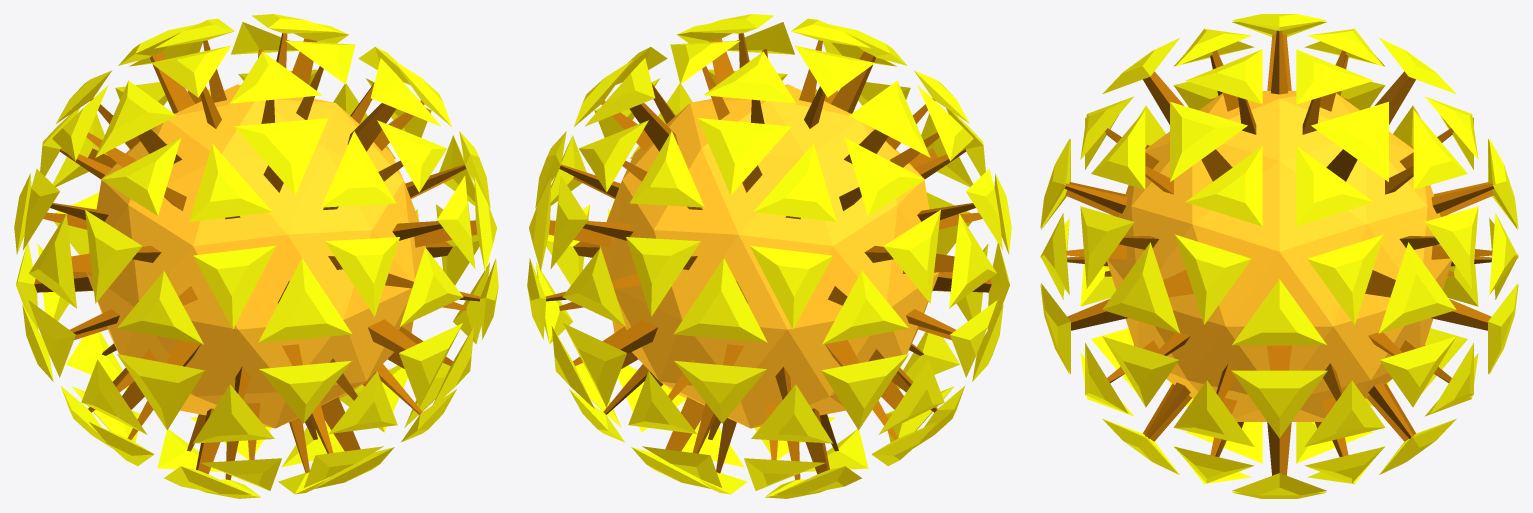
File: bouncing_virus.glb
The picture shows the model from 3 angles, left to right: view 1: azimuth 30°, elevation 25°; view 2: azimuth 150°, elevation 25°; view 3: azimuth 270°, elevation 25°; orthographic projection.
Parts seen in each view (by area): view 1: virus_07; view 2: virus_07; view 3: virus_07.
Boxes of the visible parts, x1,y1,x2,y2 form: virus_07: [14, 14, 498, 498]; virus_07: [527, 14, 1011, 498]; virus_07: [1040, 14, 1518, 498].
Size of the model in its own units: 0.7756 by 0.7684 by 0.7672.
